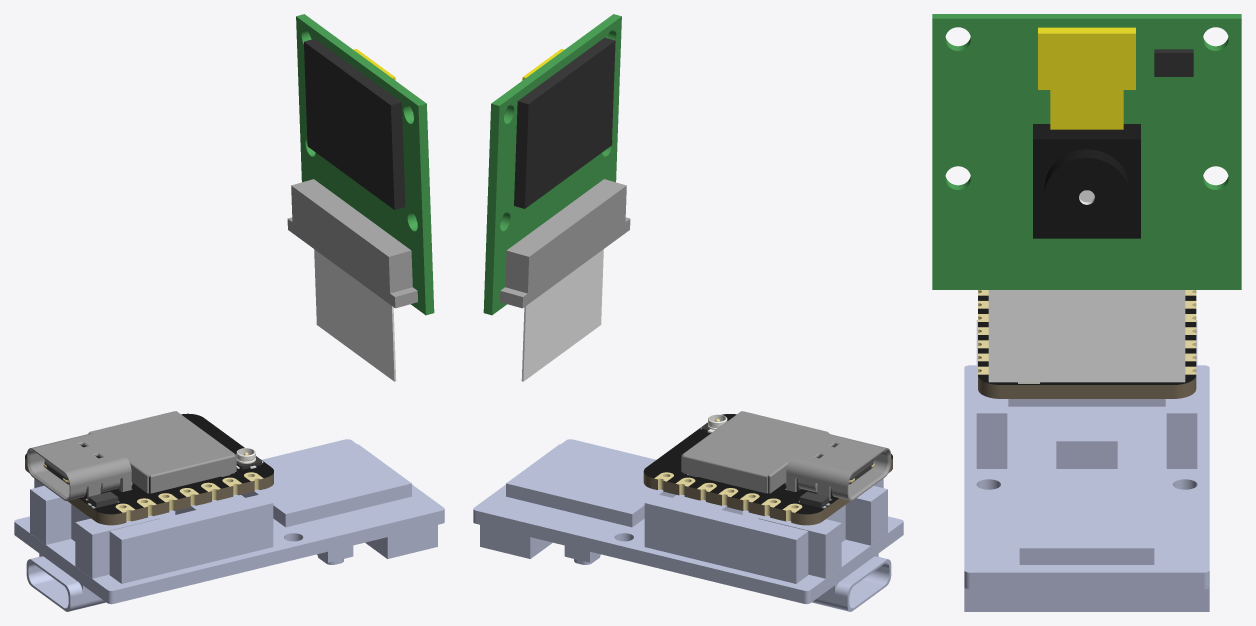
Rendered from seeed_grove_vision_ai_v2.glb.
3 views of the same model, side by side, from view 1: azimuth 30°, elevation 25°; view 2: azimuth 150°, elevation 25°; view 3: azimuth 270°, elevation 25° (orthographic). The views are drawn at different scales.
Visible parts, largest first — view 1: GroveVisionAI_v2 v1:1, RPi cam Rev 1.3 v1:1_ba4eac, RPi cam Rev 1.3 v1:1_f778a3, RPi cam Rev 1.3 v1:1_273c3c, Shield:1, RPi cam Rev 1.3 v1:1_6b25da, CHAMFER9:1, =>[0:1:1:37]_7608fe, =>[0:1:1:37]_9ea4e6, =>[0:1:1:37]_f026dd; view 2: GroveVisionAI_v2 v1:1, RPi cam Rev 1.3 v1:1_ba4eac, RPi cam Rev 1.3 v1:1_f778a3, RPi cam Rev 1.3 v1:1_273c3c, Shield:1, RPi cam Rev 1.3 v1:1_6b25da, CHAMFER9:1, =>[0:1:1:37]_7608fe, =>[0:1:1:37]_9ea4e6, =>[0:1:1:37]_f026dd; view 3: RPi cam Rev 1.3 v1:1_ba4eac, GroveVisionAI_v2 v1:1, RPi cam Rev 1.3 v1:1_6b25da, RPi cam Rev 1.3 v1:1, RPi cam Rev 1.3 v1:1_beeec9, =>[0:1:1:37]_9ea4e6, =>[0:1:1:37]_7608fe, =>[0:1:1:37]_f026dd, RPi cam Rev 1.3 v1:1_f778a3.
Part boxes in pixels (left/top/right/bottom): GroveVisionAI_v2 v1:1: left=14, top=439, right=444, bottom=611; RPi cam Rev 1.3 v1:1_ba4eac: left=296, top=14, right=434, bottom=315; RPi cam Rev 1.3 v1:1_f778a3: left=304, top=38, right=405, bottom=209; RPi cam Rev 1.3 v1:1_273c3c: left=287, top=179, right=417, bottom=308; Shield:1: left=88, top=411, right=236, bottom=493; RPi cam Rev 1.3 v1:1_6b25da: left=314, top=249, right=396, bottom=381; CHAMFER9:1: left=26, top=433, right=131, bottom=500; =>[0:1:1:37]_7608fe: left=25, top=413, right=273, bottom=514; =>[0:1:1:37]_9ea4e6: left=25, top=458, right=273, bottom=525; =>[0:1:1:37]_f026dd: left=85, top=472, right=263, bottom=521; GroveVisionAI_v2 v1:1: left=473, top=439, right=903, bottom=611; RPi cam Rev 1.3 v1:1_ba4eac: left=483, top=14, right=621, bottom=315; RPi cam Rev 1.3 v1:1_f778a3: left=505, top=37, right=615, bottom=208; RPi cam Rev 1.3 v1:1_273c3c: left=500, top=179, right=630, bottom=308; Shield:1: left=681, top=411, right=829, bottom=493; RPi cam Rev 1.3 v1:1_6b25da: left=521, top=249, right=603, bottom=381; CHAMFER9:1: left=786, top=433, right=891, bottom=500; =>[0:1:1:37]_7608fe: left=643, top=414, right=892, bottom=514; =>[0:1:1:37]_9ea4e6: left=643, top=458, right=892, bottom=525; =>[0:1:1:37]_f026dd: left=654, top=472, right=832, bottom=521; RPi cam Rev 1.3 v1:1_ba4eac: left=932, top=14, right=1241, bottom=289; GroveVisionAI_v2 v1:1: left=964, top=320, right=1209, bottom=611; RPi cam Rev 1.3 v1:1_6b25da: left=988, top=190, right=1185, bottom=382; RPi cam Rev 1.3 v1:1: left=1033, top=124, right=1140, bottom=238; RPi cam Rev 1.3 v1:1_beeec9: left=1038, top=27, right=1135, bottom=129; =>[0:1:1:37]_9ea4e6: left=978, top=300, right=1196, bottom=398; =>[0:1:1:37]_7608fe: left=978, top=295, right=1196, bottom=384; =>[0:1:1:37]_f026dd: left=978, top=290, right=1196, bottom=374; RPi cam Rev 1.3 v1:1_f778a3: left=1154, top=49, right=1193, bottom=76.
Size of the model in its own units: 0.0433 by 0.0525 by 0.0252.
